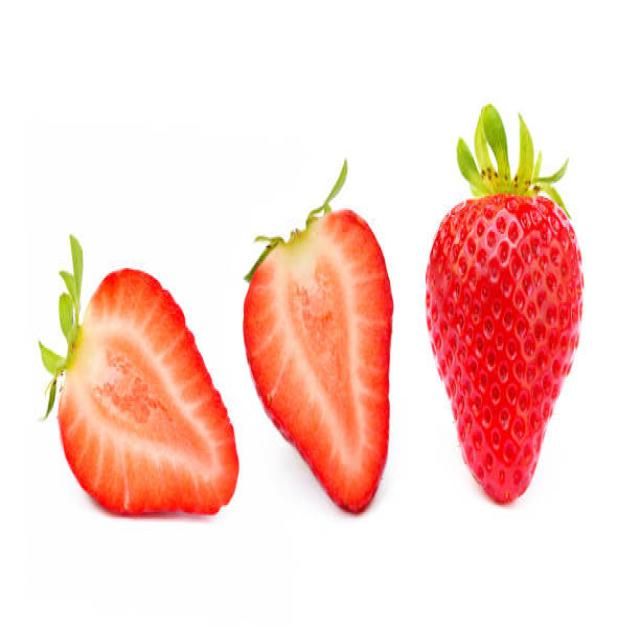Healthy Fruit: (425, 195, 583, 506), (242, 211, 394, 511), (57, 269, 239, 519)
